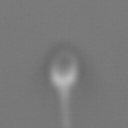normal: (48, 86, 82, 128)
